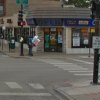crosswalk: (37, 58, 100, 76), (3, 80, 47, 90)
